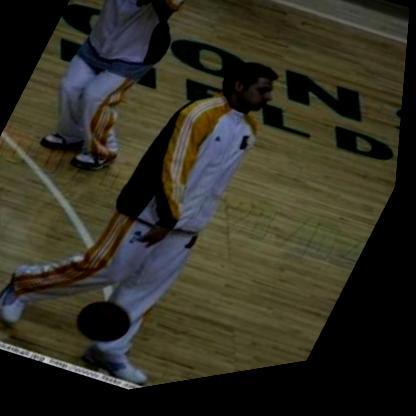basketball: (65, 285, 155, 370)
